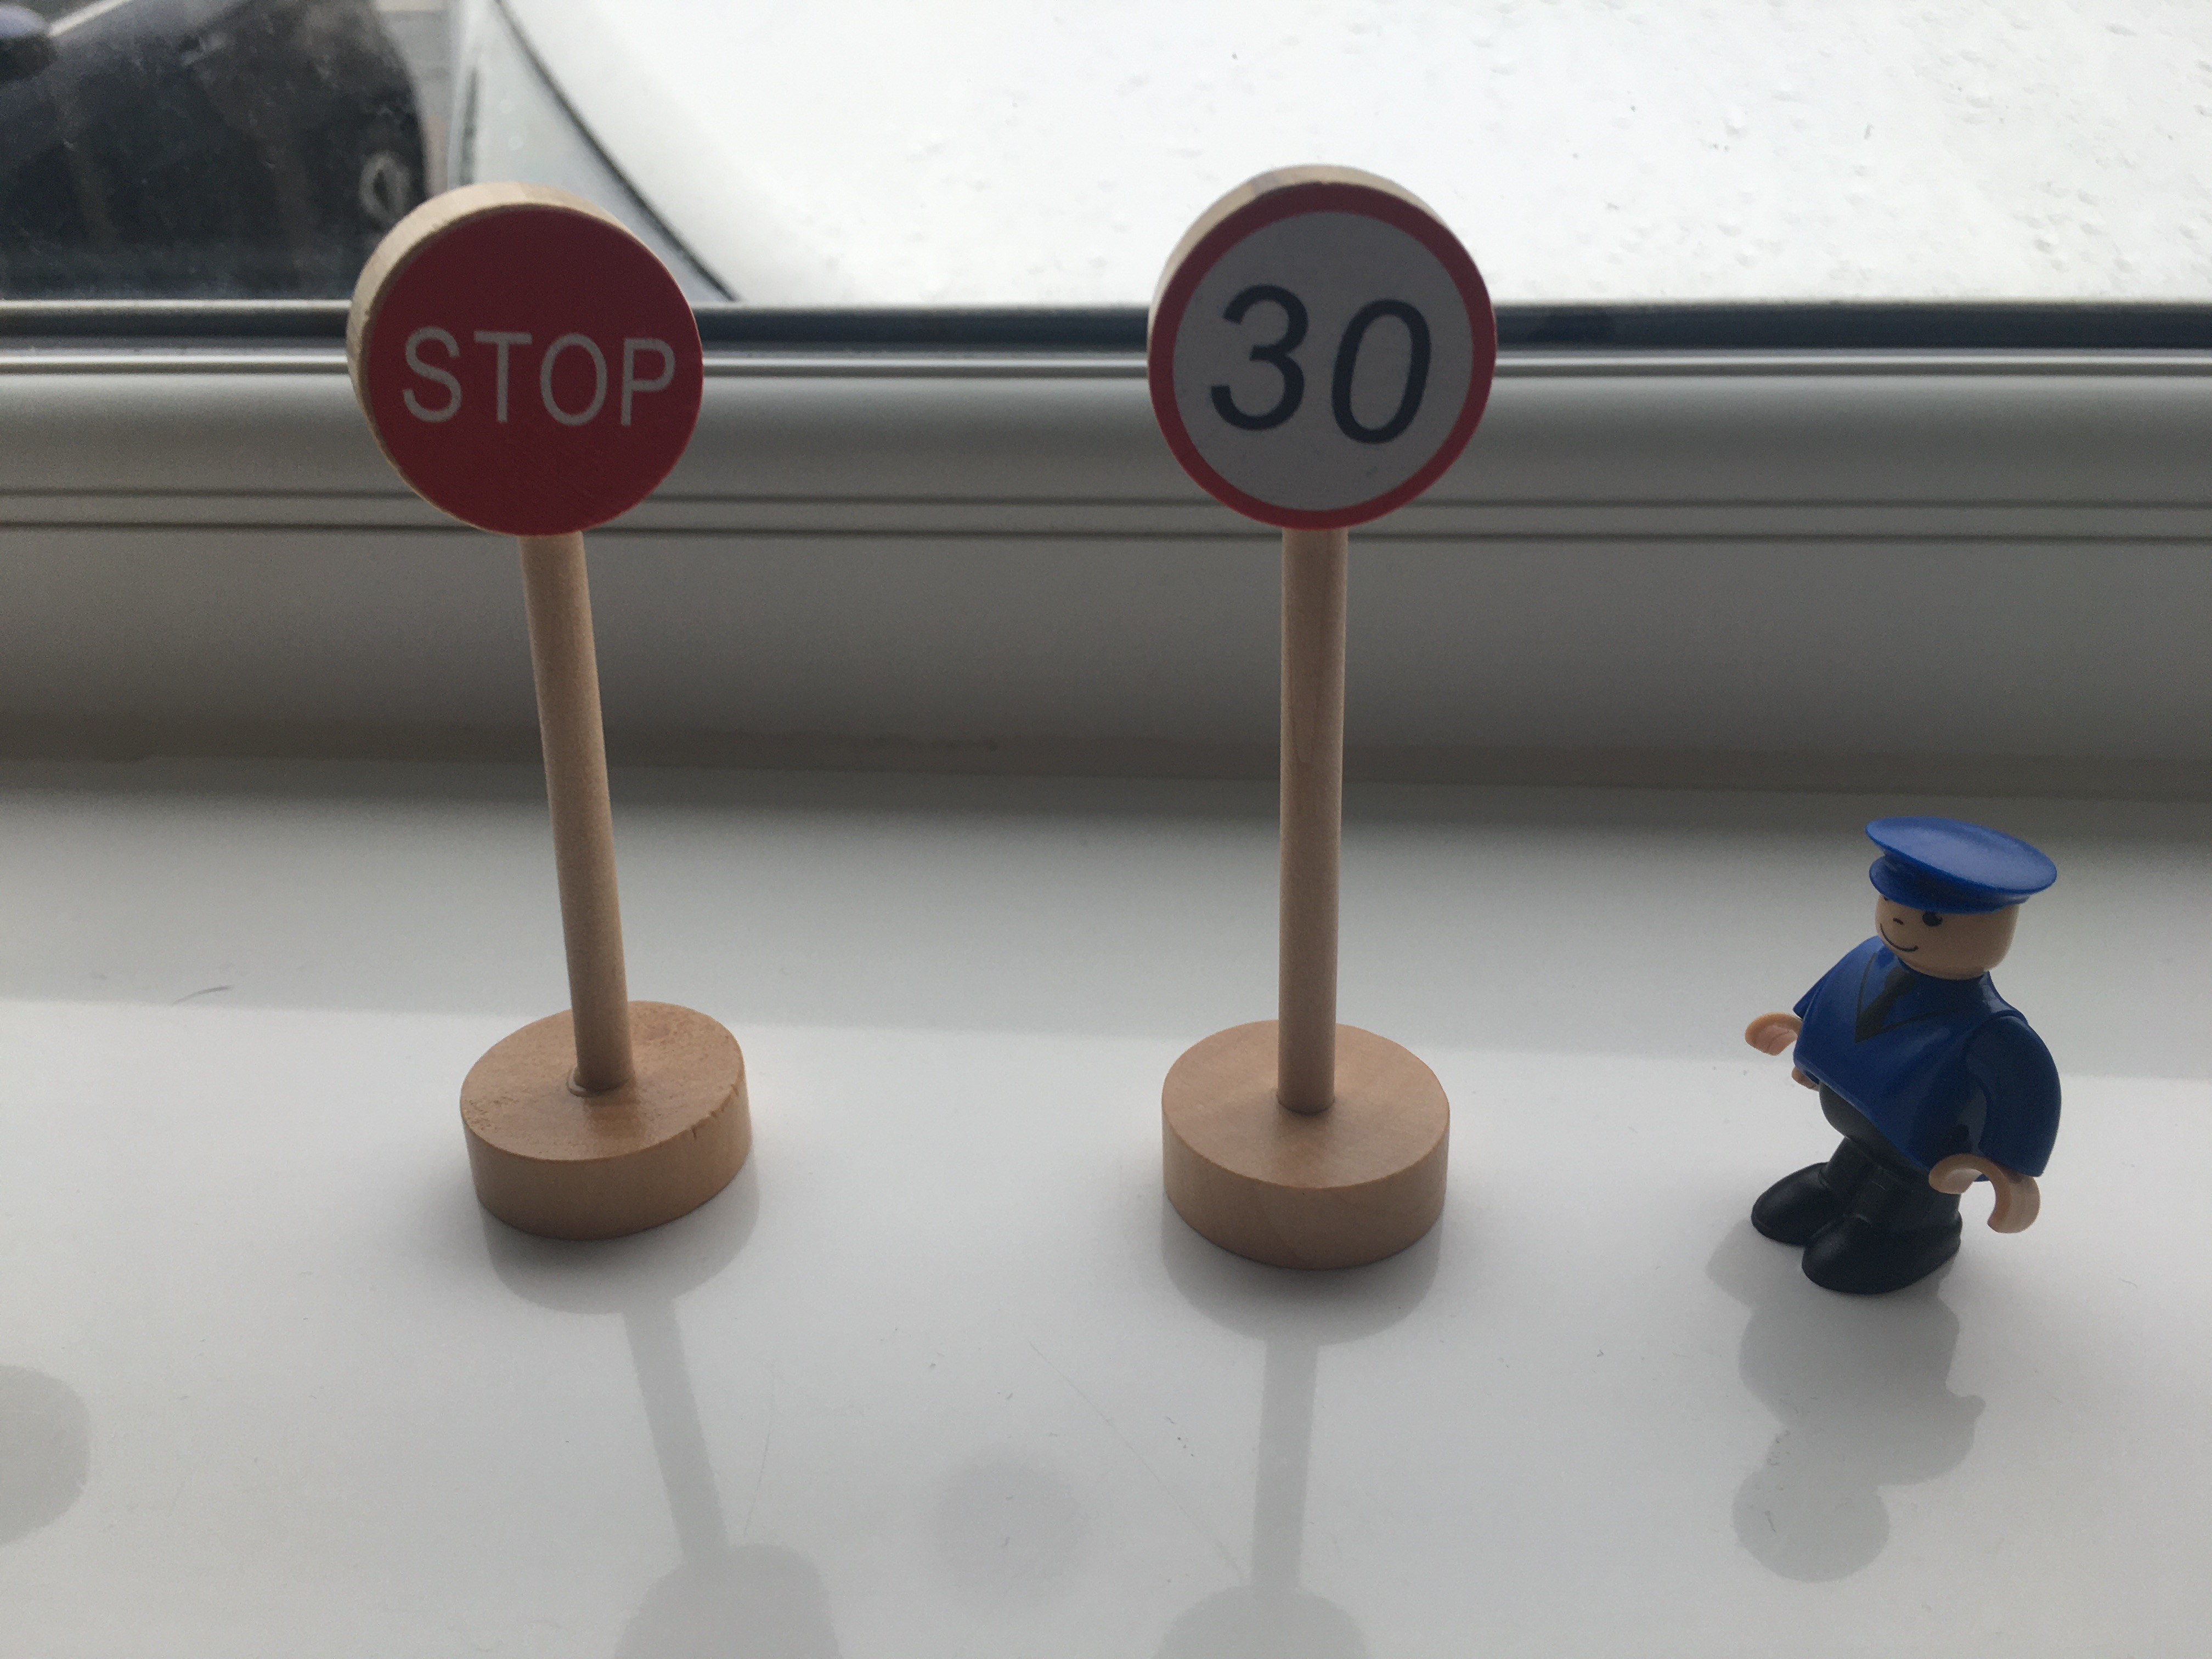Traffic_Sign_30: (1146, 173, 1499, 533)
Traffic_Sign_Stop: (360, 212, 703, 540)
person: (1734, 781, 2068, 1302)
